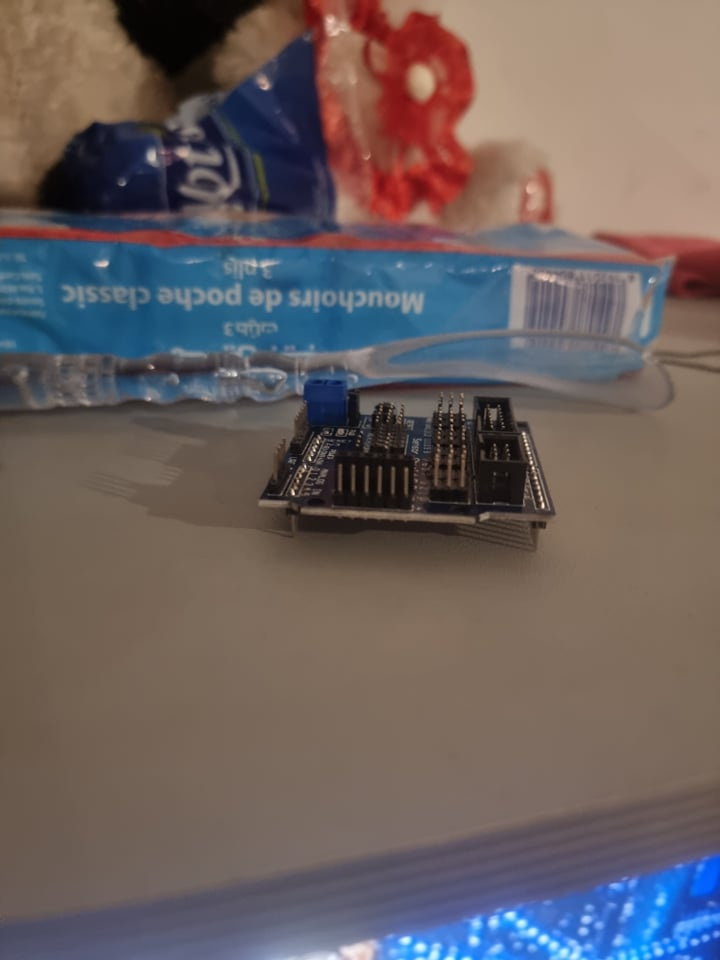5V EXPANSION: (258, 377, 559, 525)
